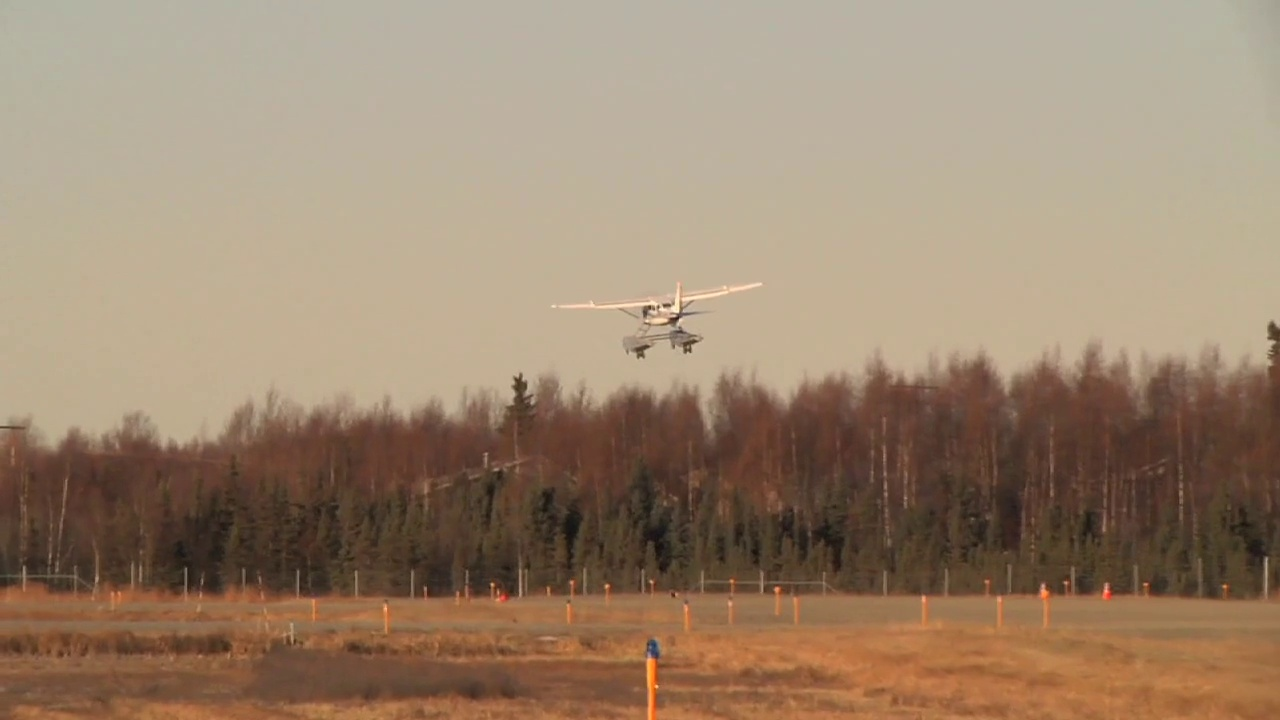plane: (549, 280, 761, 358)
